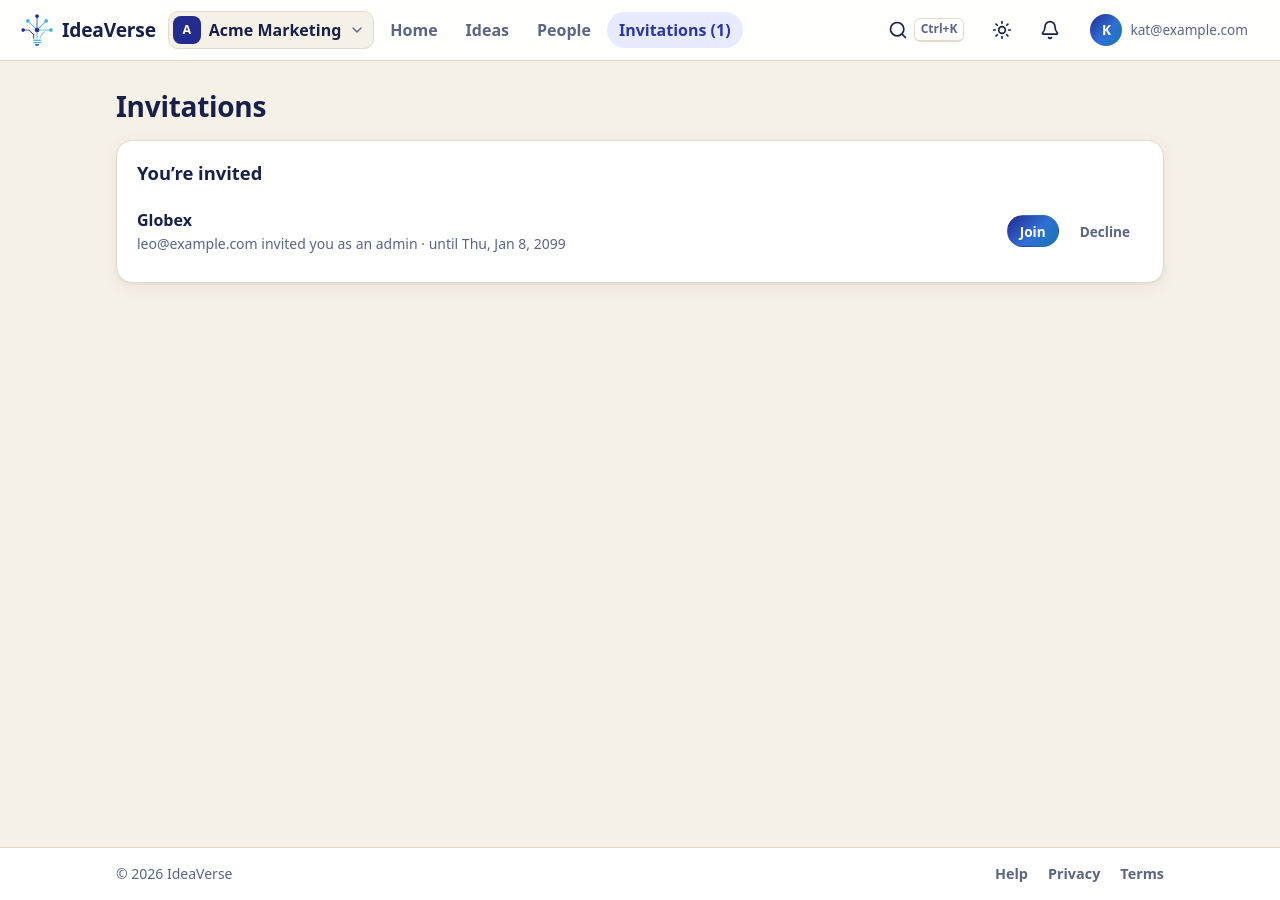
Test case: InvitationsPage › declines an invitation
What coordinates should you click on to do the following:
click the button with aria-label "Decline Globex"
I would click on:
 (1105, 231)
Its box is [1067,215,1143,247].
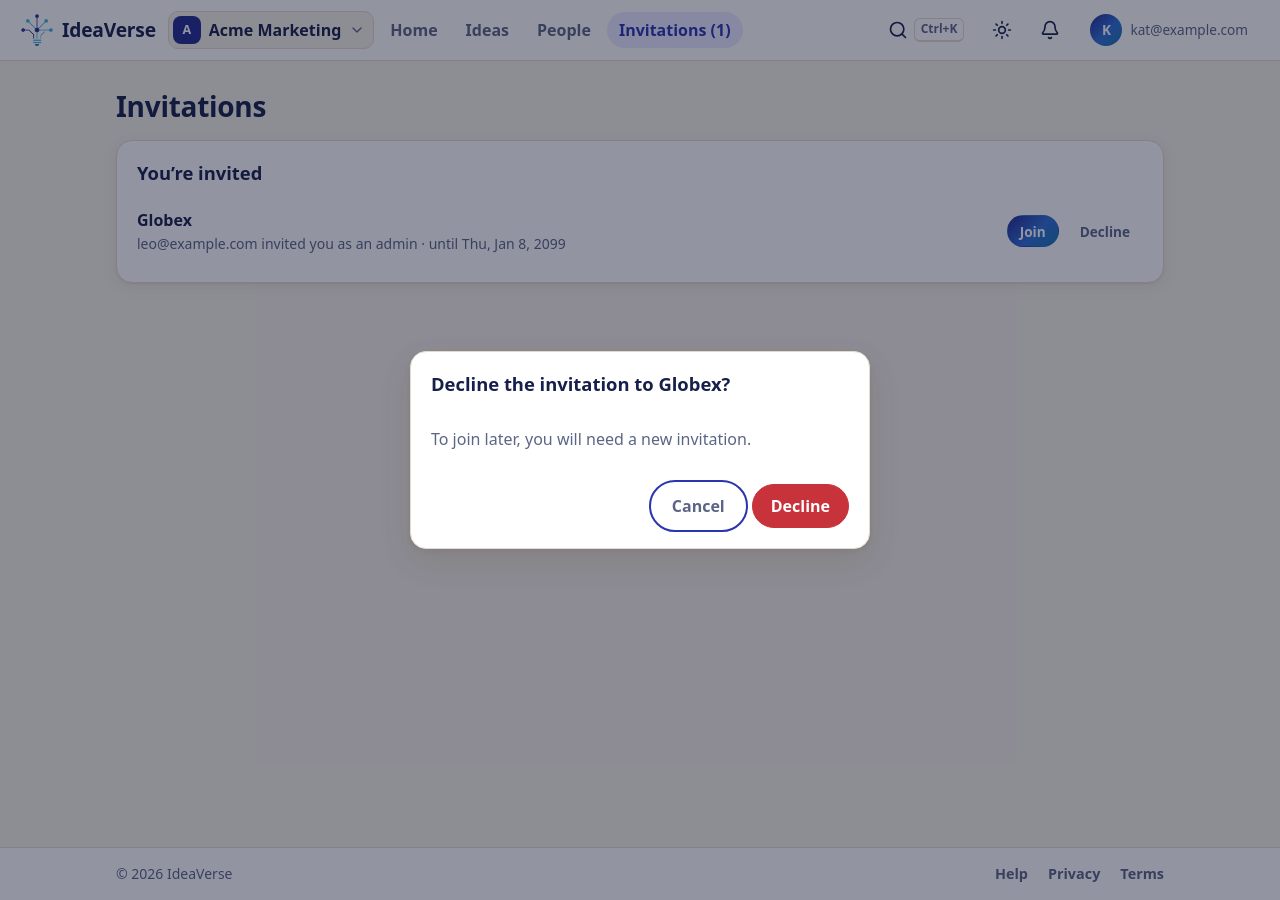
What coordinates should you click on to do the following:
click the button "Decline"
I would click on:
 (800, 506)
Its box is [752,484,849,528].
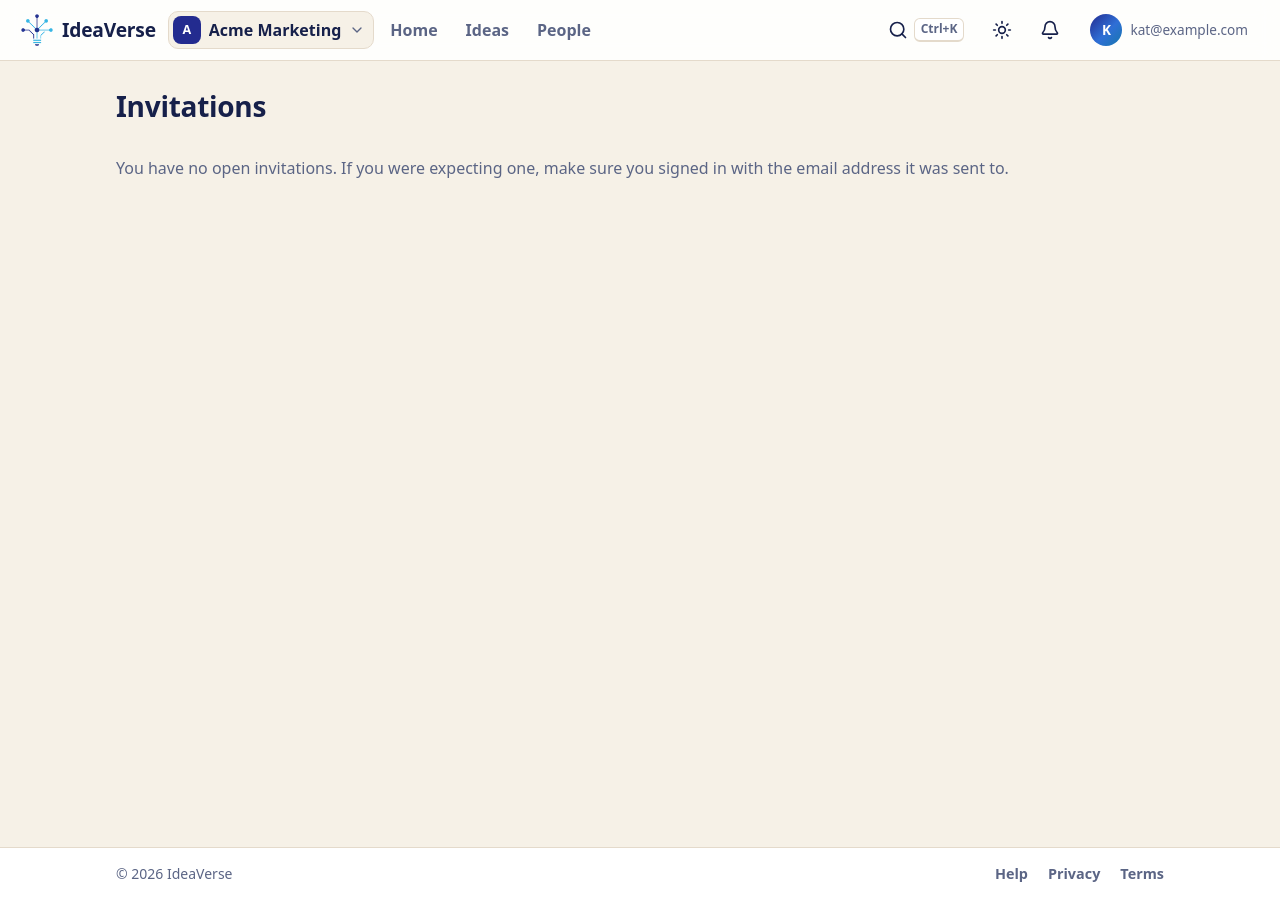
expect the text "You have no open invitations" is shown: met, box [116,157,1009,179]
